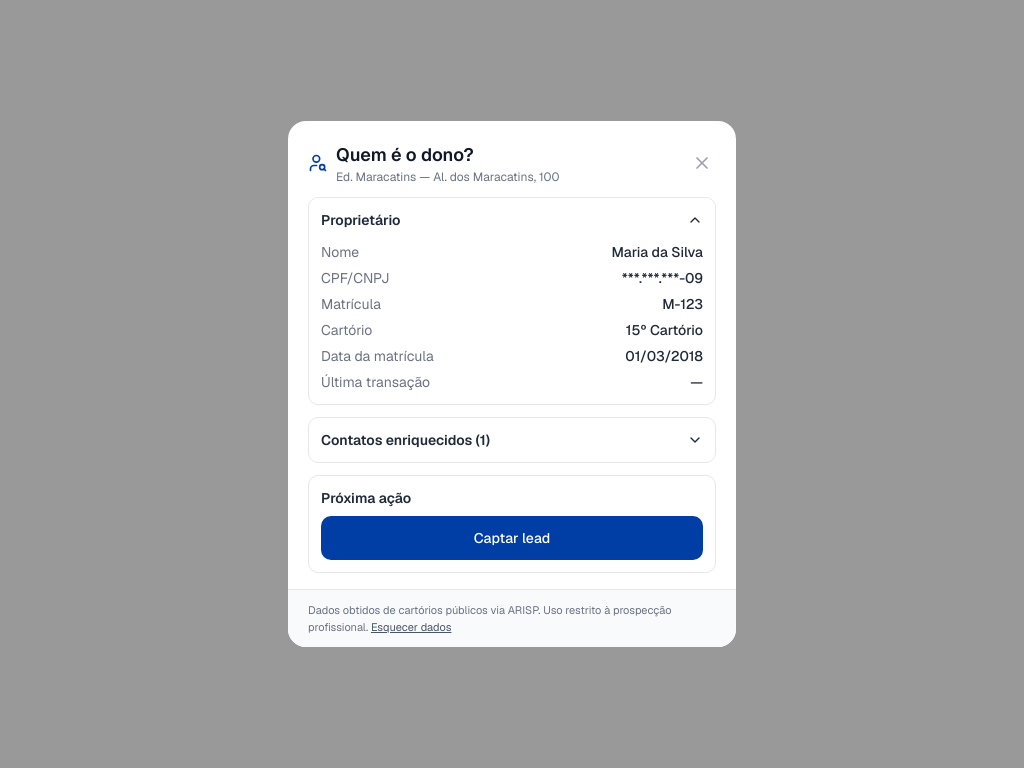
OwnerLookupModal › rodapé LGPD com Esquecer dados em 2 passos (AC5)
Click the button "Esquecer dados": {"x": 411, "y": 627} 371,618 -> 452,635
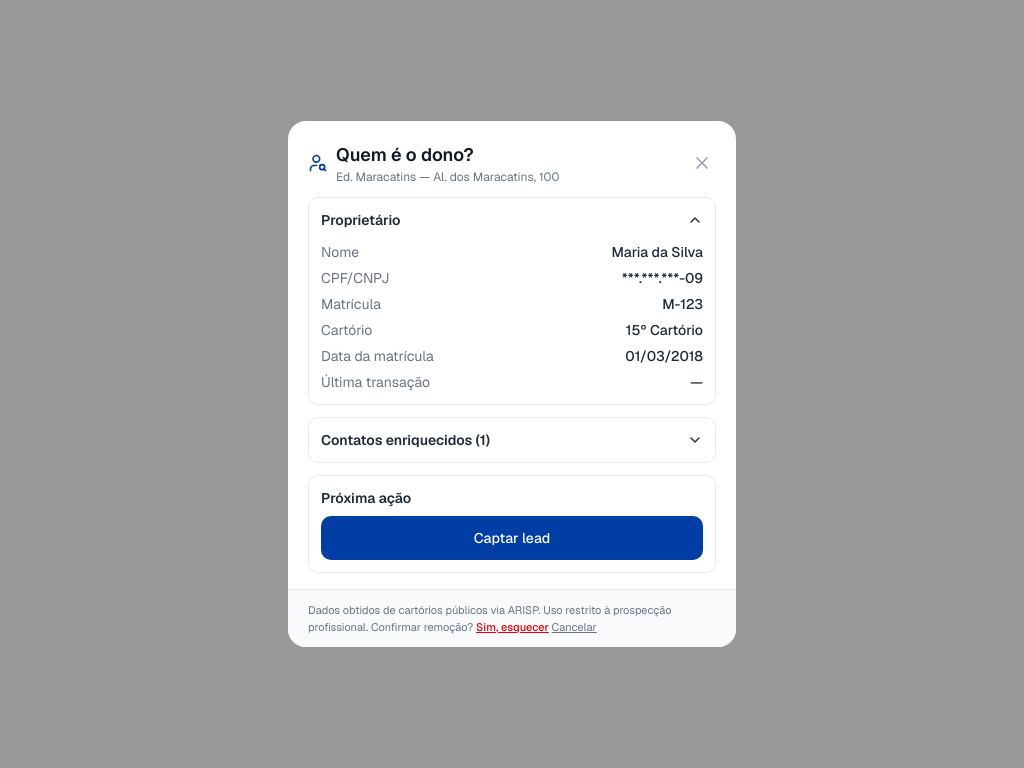
Click the button "Sim, esquecer": {"x": 512, "y": 627} 476,618 -> 549,635
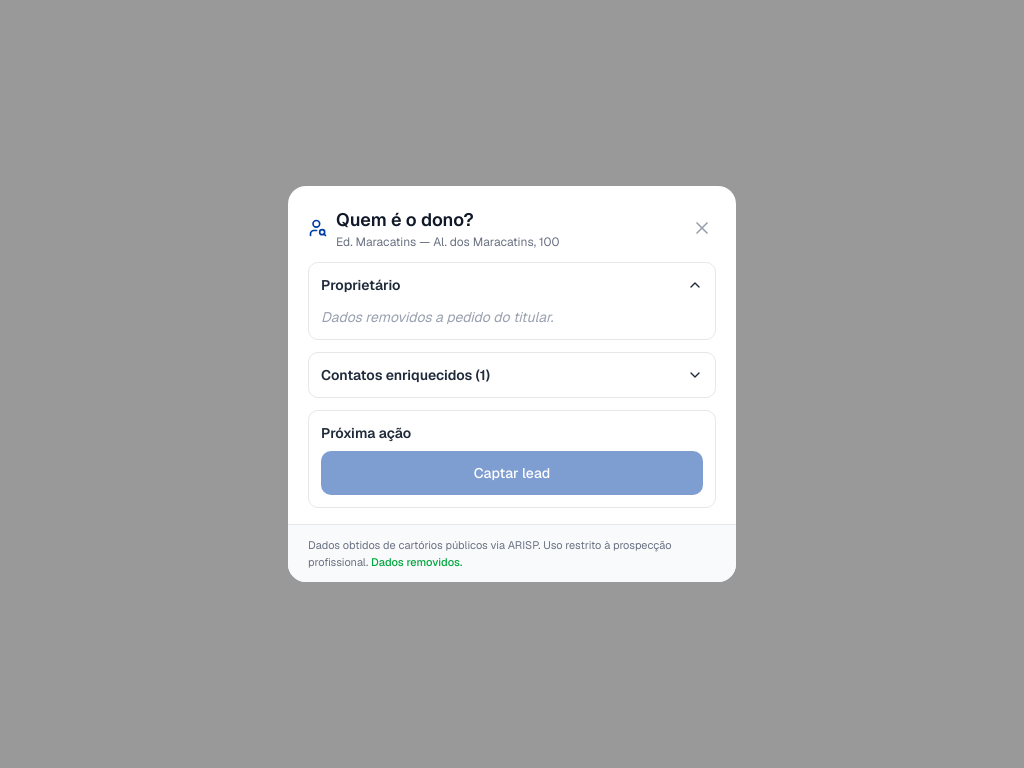
Expected: the text "Dados removidos." is shown, 371,554 -> 462,568
